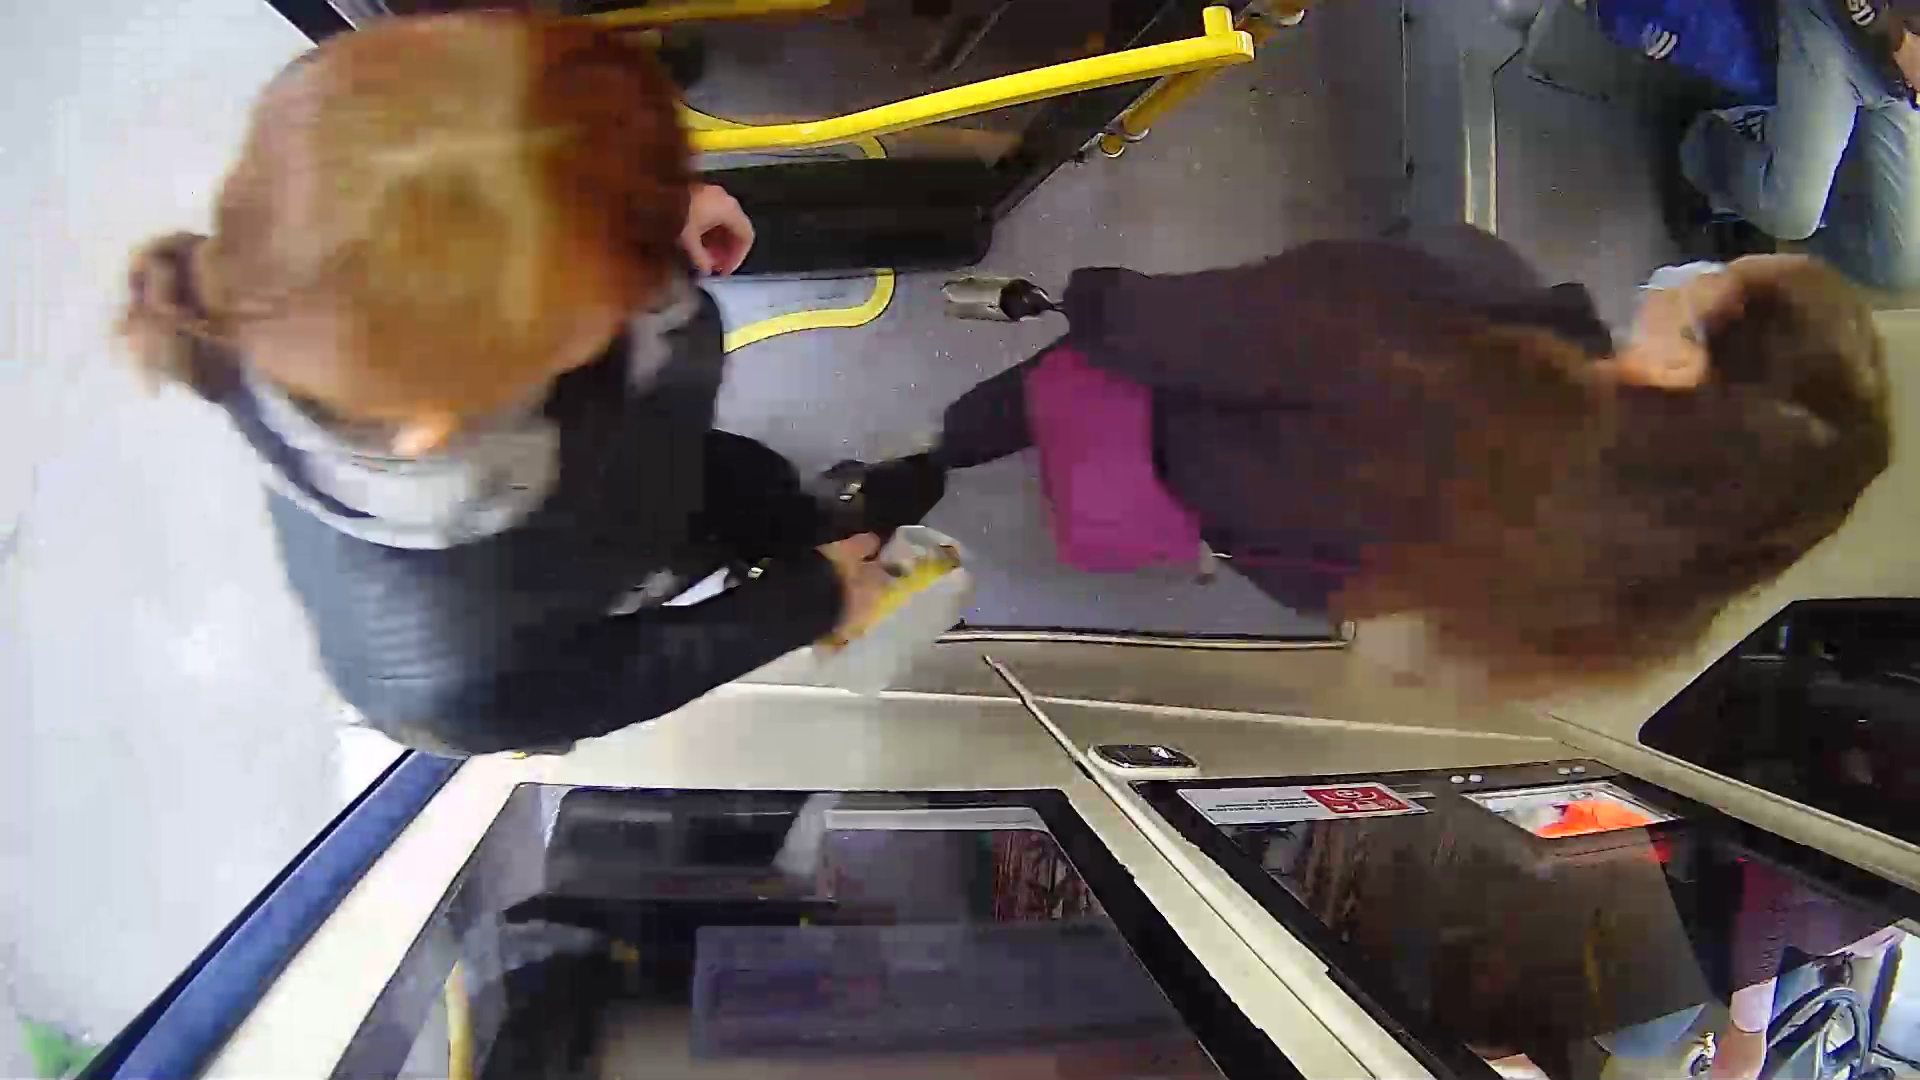person: (151, 40, 975, 717), (1046, 170, 1873, 719)
